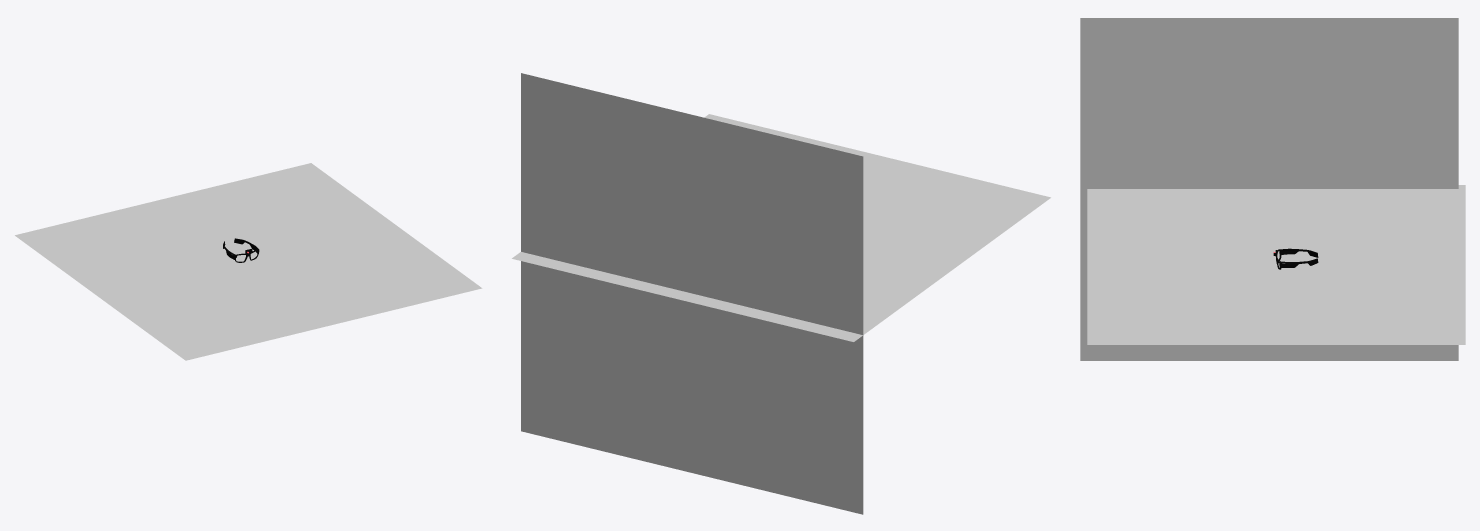
Rendered from ultraglasses.glb.
3 renders of one model, left to right at view 1: azimuth 30°, elevation 25°; view 2: azimuth 150°, elevation 25°; view 3: azimuth 270°, elevation 25°, orthographic. The views are drawn at different scales.
Visible parts, largest first — view 1: Plane; view 2: Plane.001, Plane; view 3: Plane.002, Plane, body.
Boxes of the visible parts, <box> form: Plane: <box>15,163,482,360</box>; Plane.001: <box>521,73,863,514</box>; Plane: <box>512,114,1050,341</box>; Plane.002: <box>1080,18,1458,360</box>; Plane: <box>1087,185,1465,344</box>; body: <box>1276,248,1318,269</box>.
Bounding box in the file's own units: 87.72 × 87.72 × 89.35.
4 materials, 1 textured.
